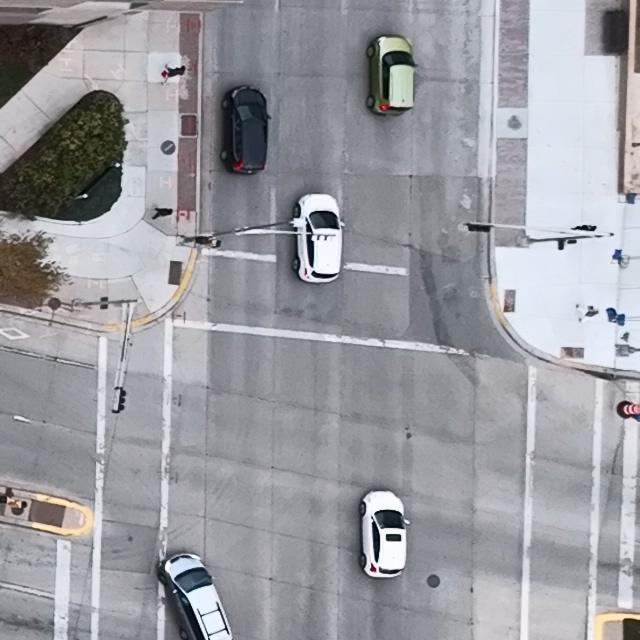car: (164, 552, 233, 640), (292, 193, 346, 285), (219, 86, 272, 175), (360, 489, 411, 579), (365, 35, 417, 117)
